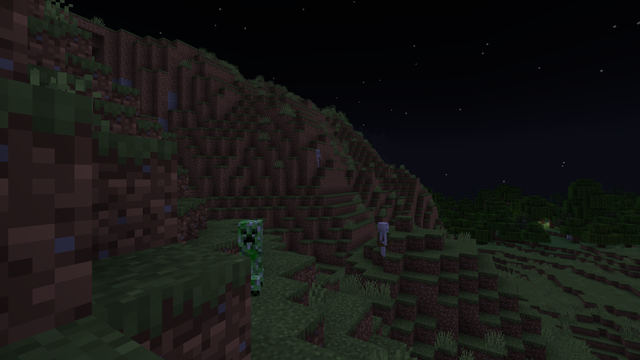creepers: (232, 216, 268, 294)
squelettes: (376, 222, 388, 257), (315, 149, 320, 167)
